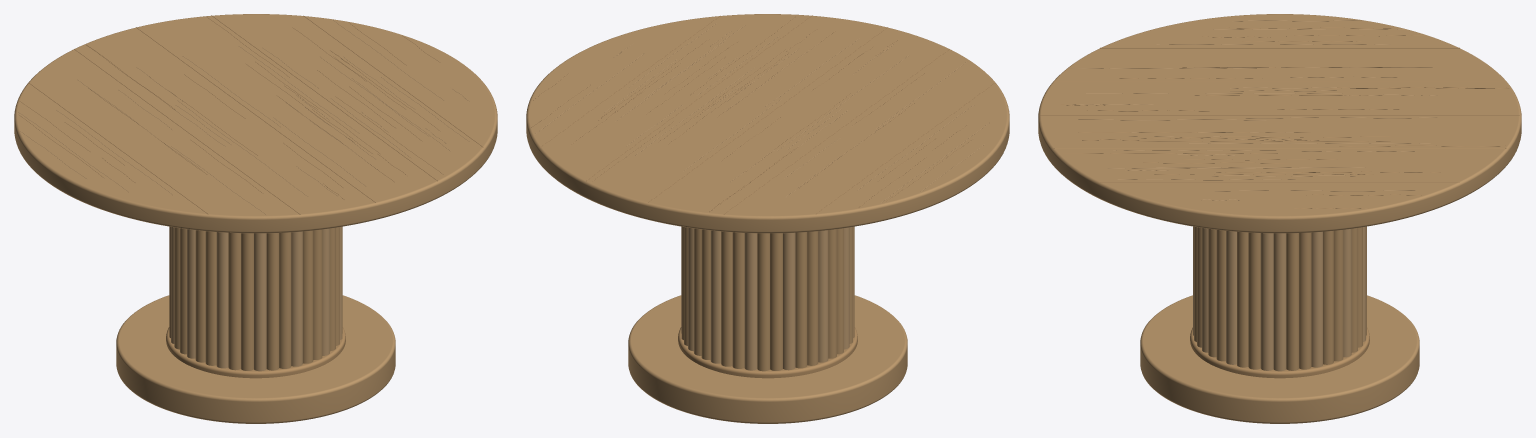
The model's file is dining-table.glb.
3 views of the same model, side by side, from view 1: azimuth 30°, elevation 25°; view 2: azimuth 150°, elevation 25°; view 3: azimuth 270°, elevation 25° (orthographic).
Parts seen in each view (by area): view 1: Solid round oak tabletop, Broad circular foot, Oak pedestal flute 28, Oak pedestal flute 27, Oak pedestal flute 26, Oak pedestal flute 25, Oak pedestal flute 29, Oak pedestal flute 24, Lower pedestal collar, Oak pedestal flute 30, Oak pedestal flute 23, Oak pedestal flute 31 (+9 smaller); view 2: Solid round oak tabletop, Broad circular foot, Oak pedestal flute 12, Oak pedestal flute 13, Oak pedestal flute 14, Oak pedestal flute 15, Oak pedestal flute 11, Oak pedestal flute 16, Lower pedestal collar, Oak pedestal flute 10, Oak pedestal flute 17, Oak pedestal flute 09 (+9 smaller); view 3: Solid round oak tabletop, Broad circular foot, Oak pedestal flute 00, Oak pedestal flute 01, Oak pedestal flute 39, Oak pedestal flute 02, Oak pedestal flute 38, Lower pedestal collar, Oak pedestal flute 03, Oak pedestal flute 37, Oak pedestal flute 04, Oak pedestal flute 36 (+12 smaller).
Boxes of the visible parts, x1,y1,x2,y2 form: Solid round oak tabletop: (14, 14, 497, 233); Broad circular foot: (116, 295, 395, 423); Oak pedestal flute 28: (266, 233, 279, 370); Oak pedestal flute 27: (254, 233, 266, 371); Oak pedestal flute 26: (241, 233, 253, 370); Oak pedestal flute 25: (228, 232, 240, 370); Oak pedestal flute 29: (279, 232, 291, 368); Oak pedestal flute 24: (216, 232, 228, 368); Lower pedestal collar: (166, 327, 345, 378); Oak pedestal flute 30: (291, 231, 302, 366); Oak pedestal flute 23: (205, 231, 216, 365); Oak pedestal flute 31: (303, 230, 313, 363); Solid round oak tabletop: (526, 14, 1009, 233); Broad circular foot: (628, 295, 907, 423); Oak pedestal flute 12: (744, 233, 757, 370); Oak pedestal flute 13: (757, 233, 769, 371); Oak pedestal flute 14: (770, 233, 782, 370); Oak pedestal flute 15: (783, 232, 795, 370); Oak pedestal flute 11: (732, 232, 744, 368); Oak pedestal flute 16: (795, 232, 807, 368); Lower pedestal collar: (678, 327, 857, 378); Oak pedestal flute 10: (721, 231, 732, 366); Oak pedestal flute 17: (807, 231, 818, 365); Oak pedestal flute 09: (710, 230, 720, 363); Solid round oak tabletop: (1038, 14, 1521, 233); Broad circular foot: (1140, 295, 1419, 423); Oak pedestal flute 00: (1273, 233, 1286, 371); Oak pedestal flute 01: (1286, 233, 1299, 370); Oak pedestal flute 39: (1260, 233, 1273, 370); Oak pedestal flute 02: (1299, 232, 1311, 369); Oak pedestal flute 38: (1248, 232, 1260, 369); Lower pedestal collar: (1190, 327, 1369, 378); Oak pedestal flute 03: (1311, 231, 1322, 367); Oak pedestal flute 37: (1237, 231, 1248, 367); Oak pedestal flute 04: (1323, 231, 1333, 364); Oak pedestal flute 36: (1226, 231, 1236, 364).
Size of the model in its own units: 1.28 by 0.7508 by 1.28.
